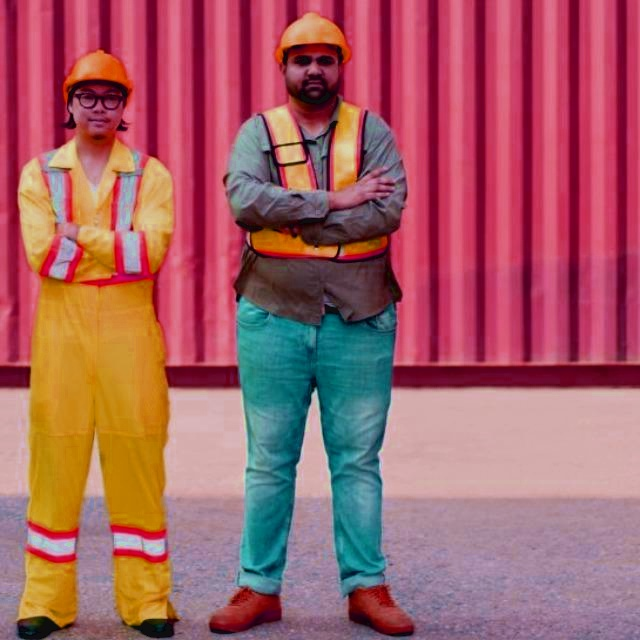Con_Casco: (274, 10, 347, 103), (63, 48, 131, 143)
Con_Chaleco: (236, 102, 392, 266), (19, 143, 173, 305)
